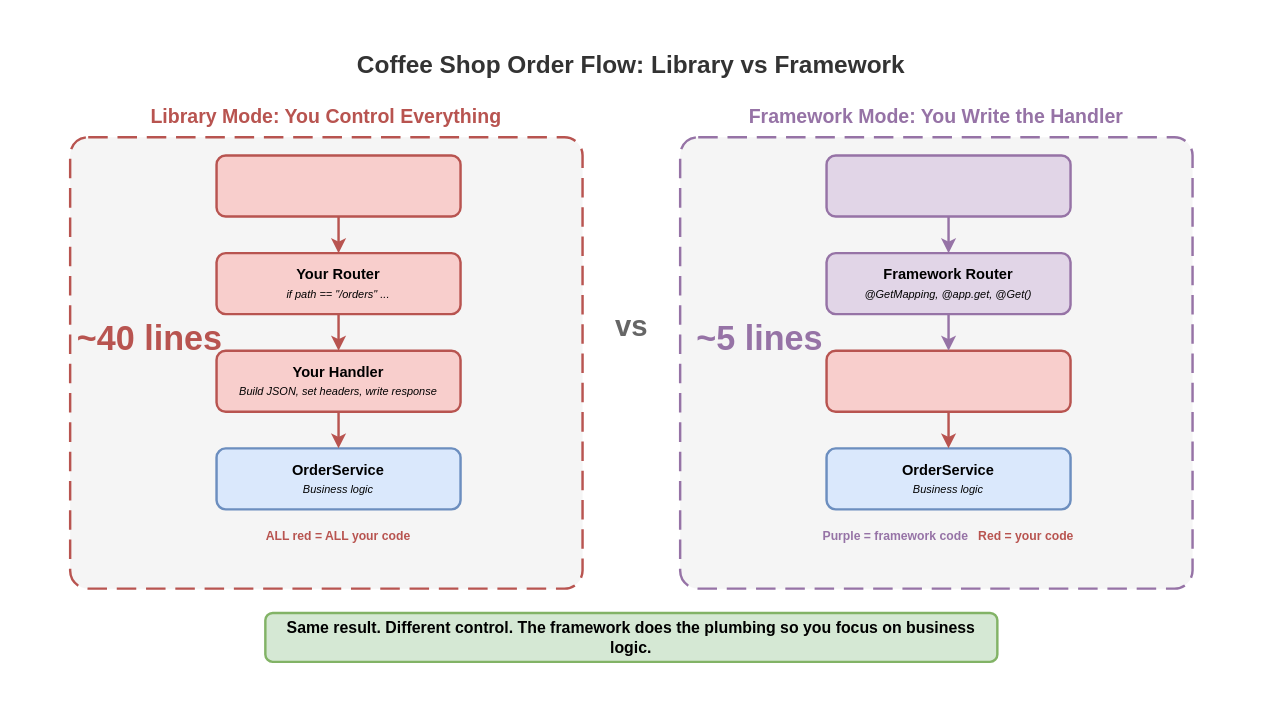
This 1261x712 diagram has some shape labels left out. The shapes that lost their labels are listed below. From the top down, each one's centre as x and y in pixels, then its label:
(338,185): Your main() Creates server, binds port, starts loop
(948,185): Framework main() Auto-creates server, binds port
(948,380): Your Handler return list of orders
